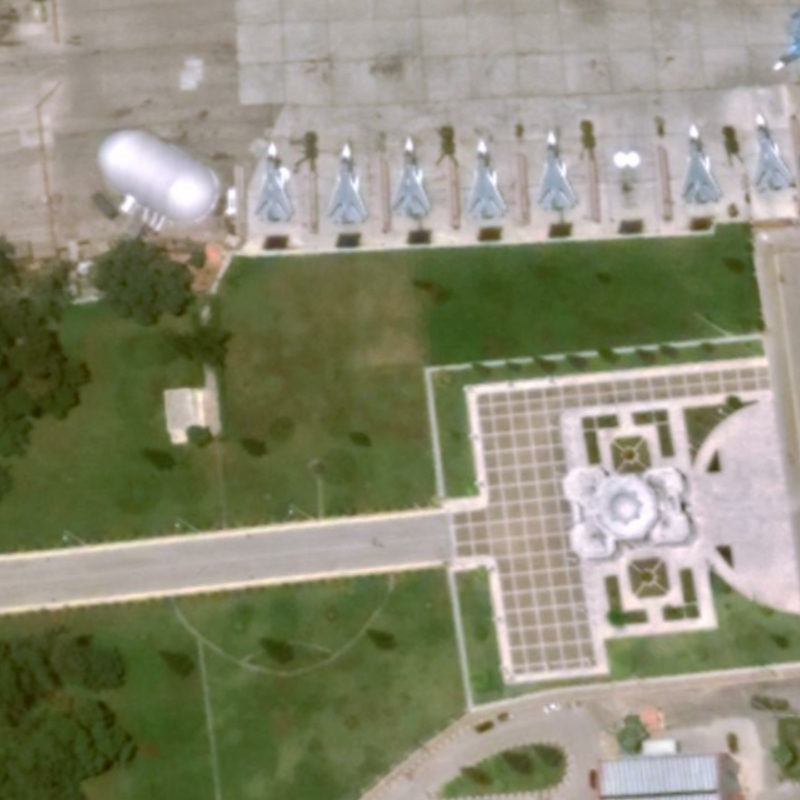A20: (673, 120, 729, 211), (529, 126, 583, 215), (463, 134, 514, 228), (251, 136, 303, 227), (387, 132, 438, 223), (320, 138, 372, 227), (748, 107, 795, 198)
